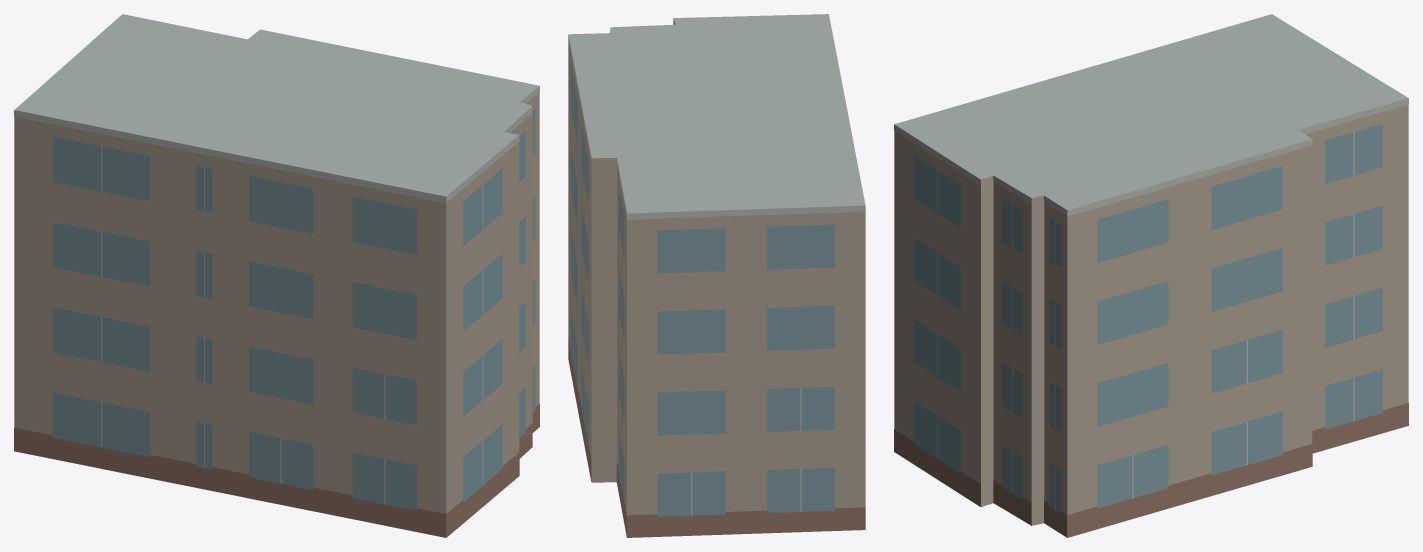
The model's file is survey-upis-32630658.glb.
3 renders of one model, left to right at view 1: azimuth 30°, elevation 25°; view 2: azimuth 150°, elevation 25°; view 3: azimuth 270°, elevation 25°, orthographic. The views are drawn at different scales.
Parts seen in each view (by area): view 1: survey-upis-32630658.tmp; view 2: survey-upis-32630658.tmp; view 3: survey-upis-32630658.tmp.
Part boxes in pixels (<box>): survey-upis-32630658.tmp: <box>14,14,539,537</box>; survey-upis-32630658.tmp: <box>568,14,865,537</box>; survey-upis-32630658.tmp: <box>894,14,1408,537</box>.
Bounding box in the file's own units: 16.46 × 12.8 × 18.24.
